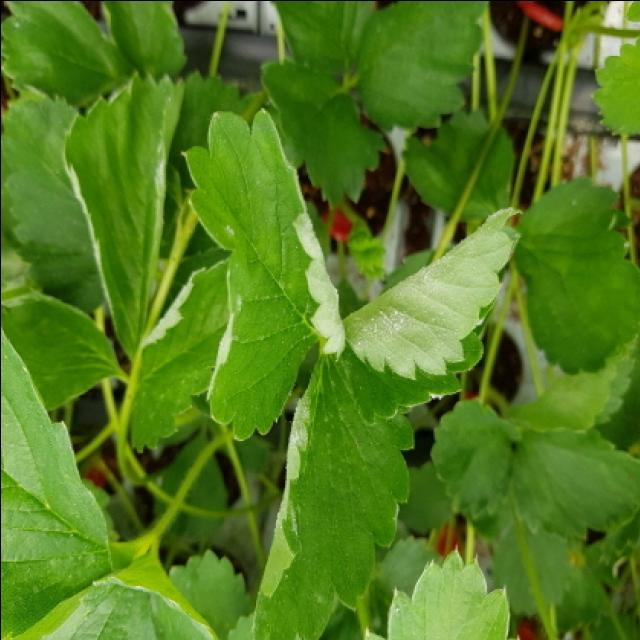Powdery Mildew Leaf: (180, 106, 345, 439), (250, 337, 414, 640), (341, 207, 522, 425), (61, 70, 184, 363), (128, 252, 231, 454)
